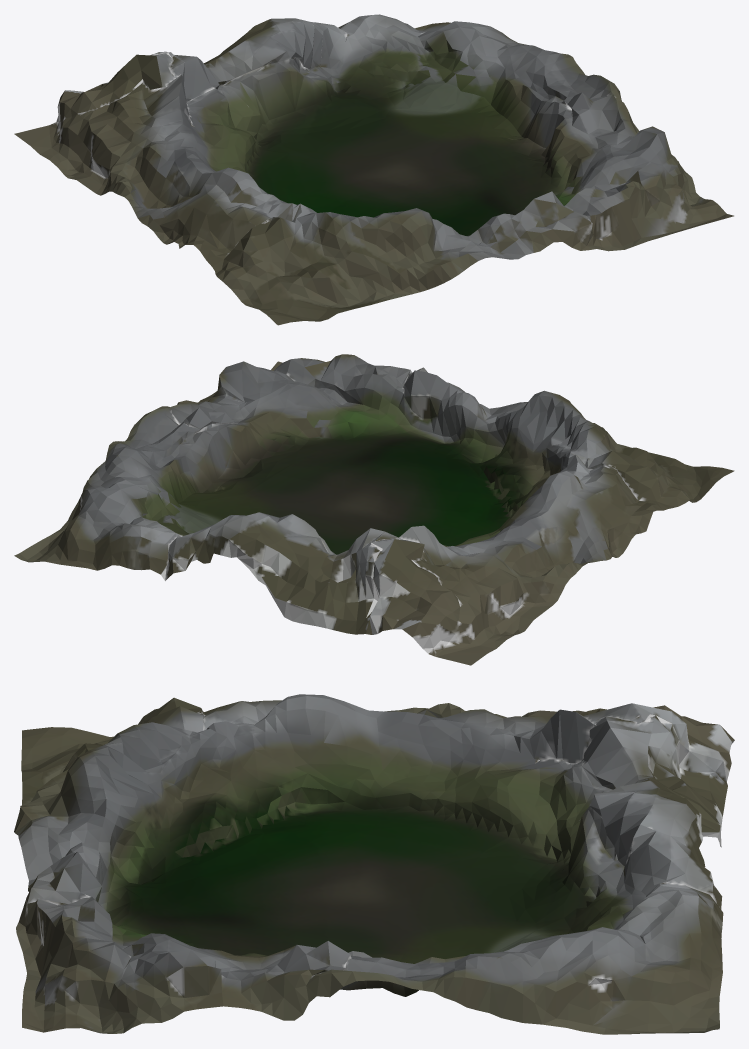
The model's file is mountains2.glb.
3 views of the same model, one above another, from view 1: azimuth 30°, elevation 25°; view 2: azimuth 150°, elevation 25°; view 3: azimuth 270°, elevation 25° (orthographic). The views are drawn at different scales.
Visible parts, largest first — view 1: Plane; view 2: Plane; view 3: Plane.
Part boxes in pixels (<box>): Plane: <box>14,14,733,325</box>; Plane: <box>14,354,734,665</box>; Plane: <box>14,694,734,1034</box>.
Bounding box in the file's own units: 673157 × 121433 × 677624.
Materials: 1 (1 with a texture image).
